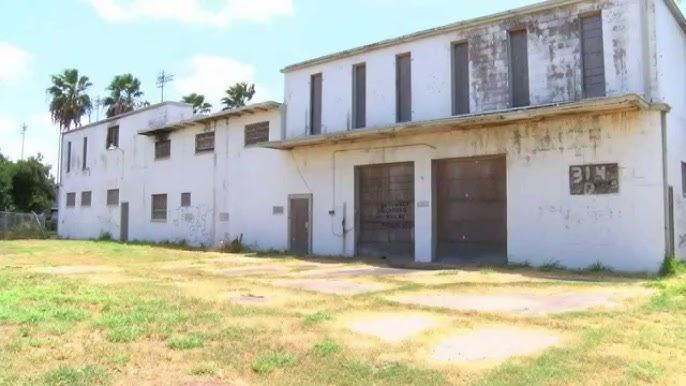graffiti: (175, 206, 213, 249), (378, 200, 415, 229)
